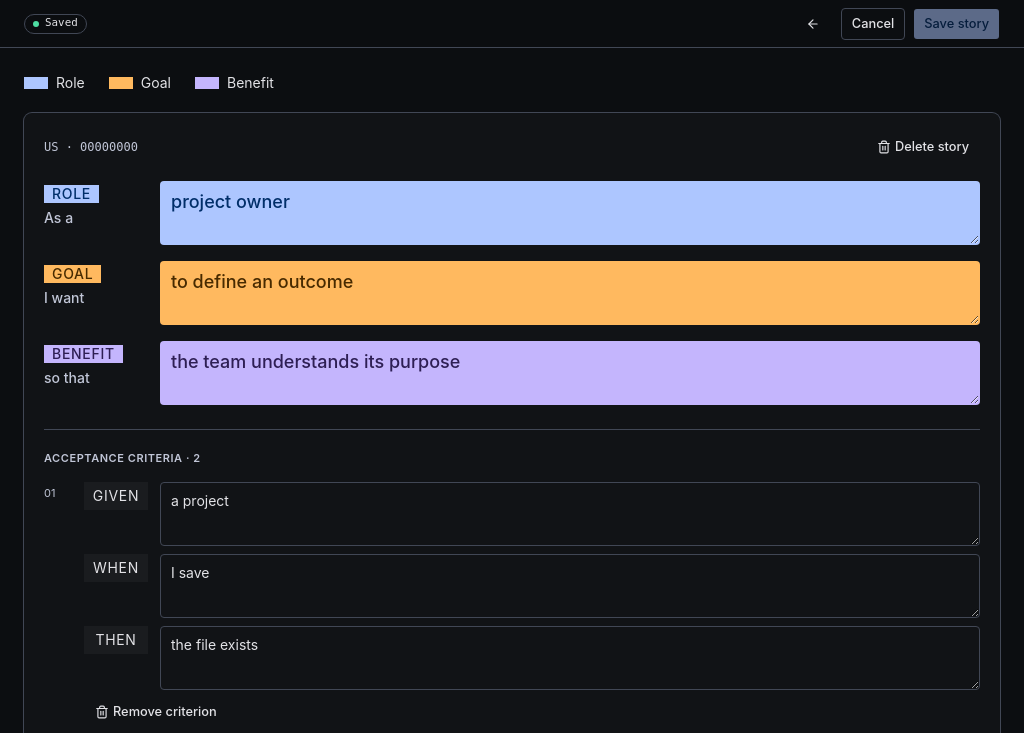
Scenario: User Story authoring › removes a criterion without losing the remaining content and allows zero criteria
This screenshot has width=1024, height=733.
Click the button with aria-label "Remove criterion 1" at {"x": 156, "y": 712}, box [84,698,228,726]
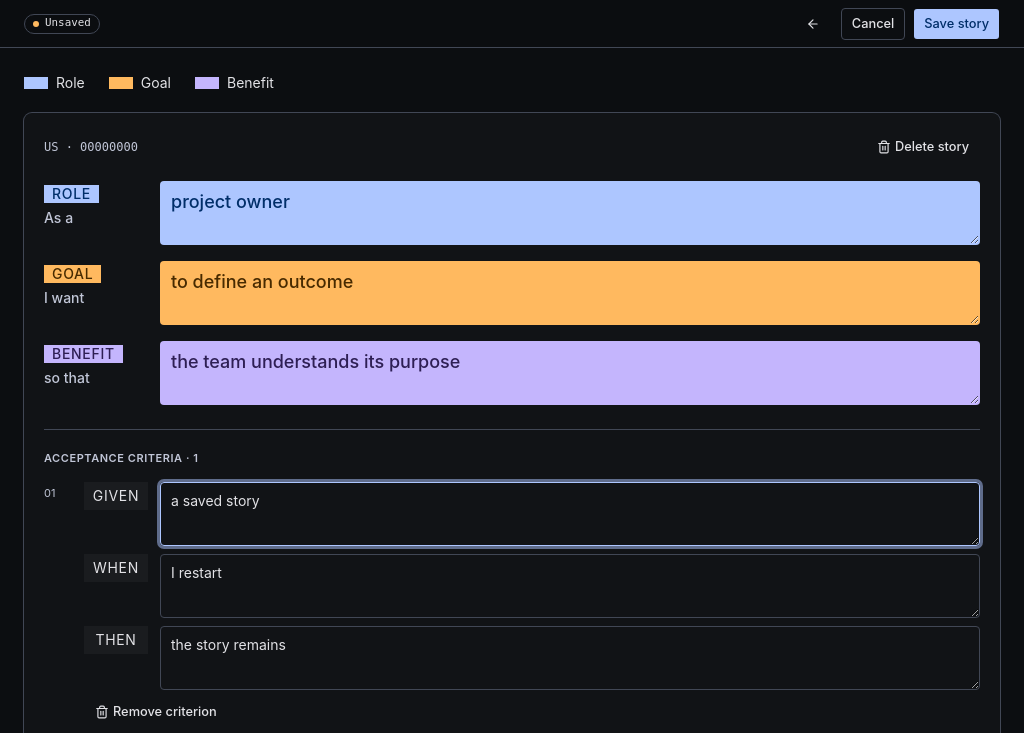
Expected: the text box named "GIVEN for criterion 1" holds "a saved story", [160,482,980,546]
Click the button with aria-label "Remove criterion 1" at {"x": 156, "y": 712}, box [84,698,228,726]
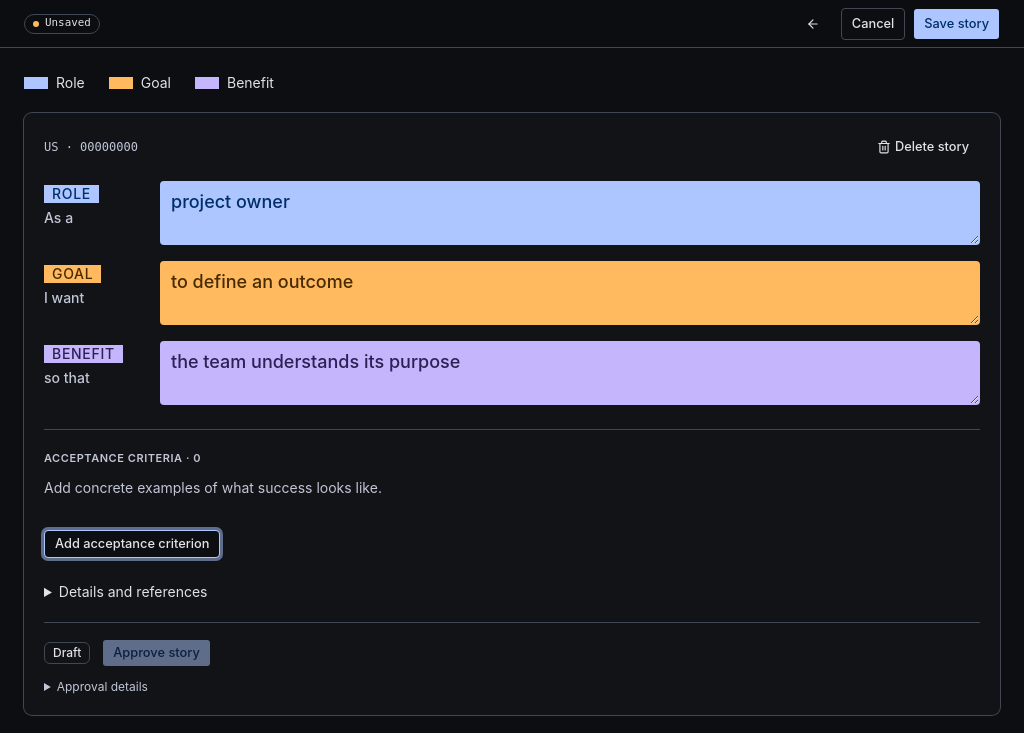
Expected: the button "Save story" is enabled, [913,8,1000,40]
Expected: the label "GIVEN" is gone
